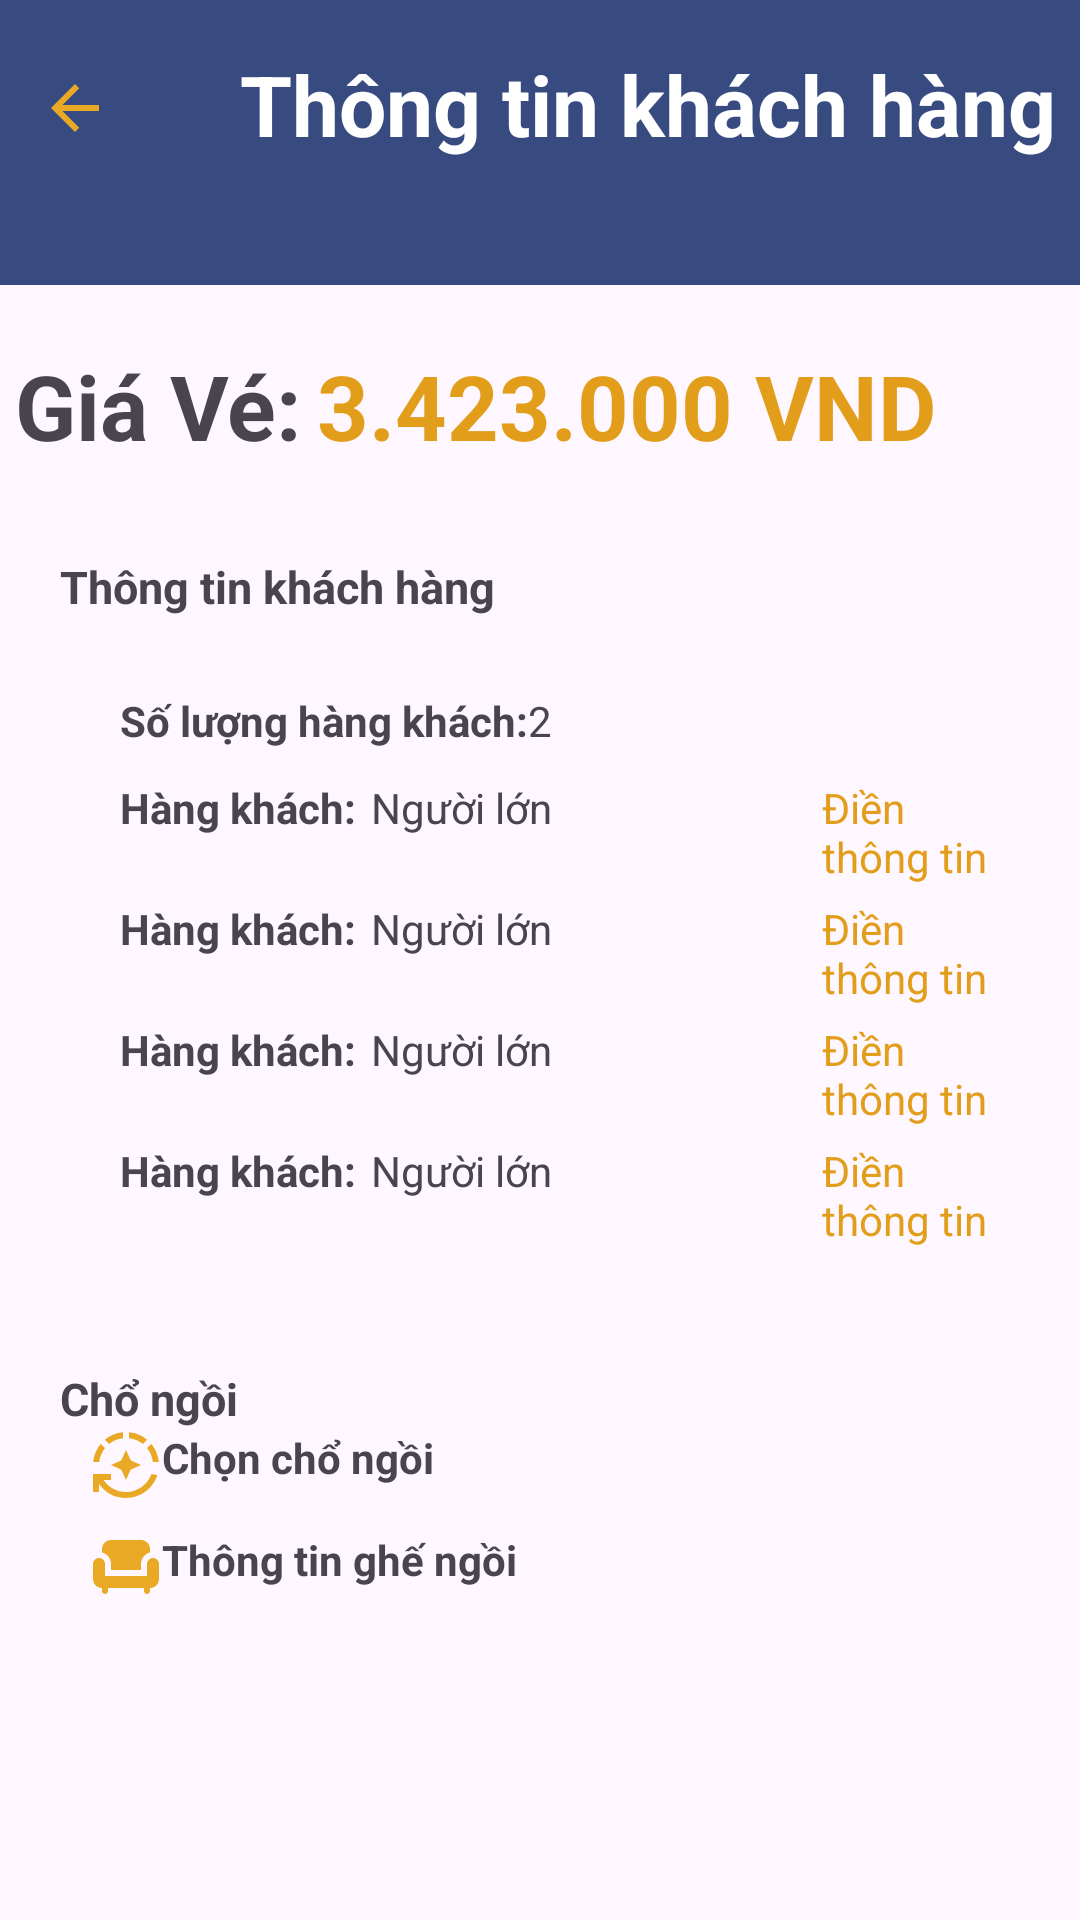

Named icons in this screenshot (1080px×1920px) and their centers, point (x, y):
arrow back: point (75, 108)
auto mode: point (126, 1465)
chair: point (126, 1567)
